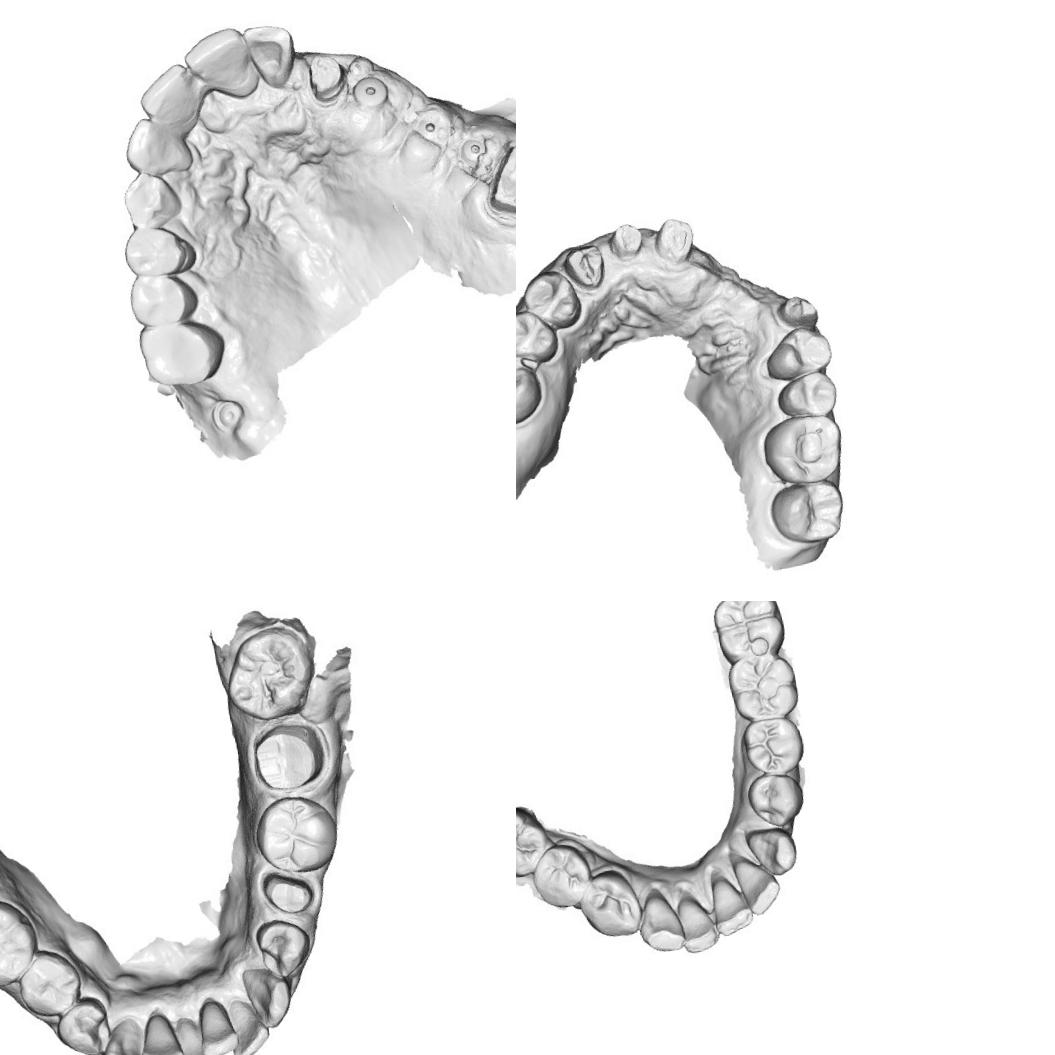canine: (116, 169, 185, 231), (240, 960, 299, 1030), (634, 888, 688, 958), (745, 823, 802, 877), (101, 1018, 155, 1055)
crown: (247, 716, 331, 797), (300, 46, 356, 103), (564, 234, 610, 298), (260, 868, 316, 920), (481, 137, 516, 220), (653, 218, 696, 268), (774, 287, 823, 330), (608, 220, 645, 259)
implant: (406, 102, 456, 148), (454, 129, 498, 169), (210, 396, 247, 435), (354, 74, 389, 109)
incisor: (176, 19, 258, 99), (131, 59, 206, 134), (121, 111, 190, 181), (242, 21, 298, 91), (672, 889, 718, 951), (734, 858, 783, 915), (710, 868, 754, 931), (195, 997, 239, 1055), (226, 1001, 269, 1055), (136, 1012, 180, 1055), (171, 1018, 213, 1055)
molar: (215, 620, 322, 729), (134, 312, 230, 394), (250, 792, 337, 873), (764, 411, 841, 487), (728, 651, 802, 723), (769, 477, 848, 544), (714, 601, 787, 666), (0, 895, 37, 992), (516, 809, 548, 879), (516, 349, 541, 420)
premolar: (576, 863, 640, 944), (120, 222, 194, 284), (127, 270, 198, 332), (49, 991, 113, 1055), (250, 916, 312, 979), (530, 846, 590, 910), (16, 954, 81, 1012), (742, 716, 802, 778), (522, 268, 583, 327), (748, 771, 804, 828), (769, 326, 830, 374), (779, 371, 834, 419), (516, 310, 553, 365)
